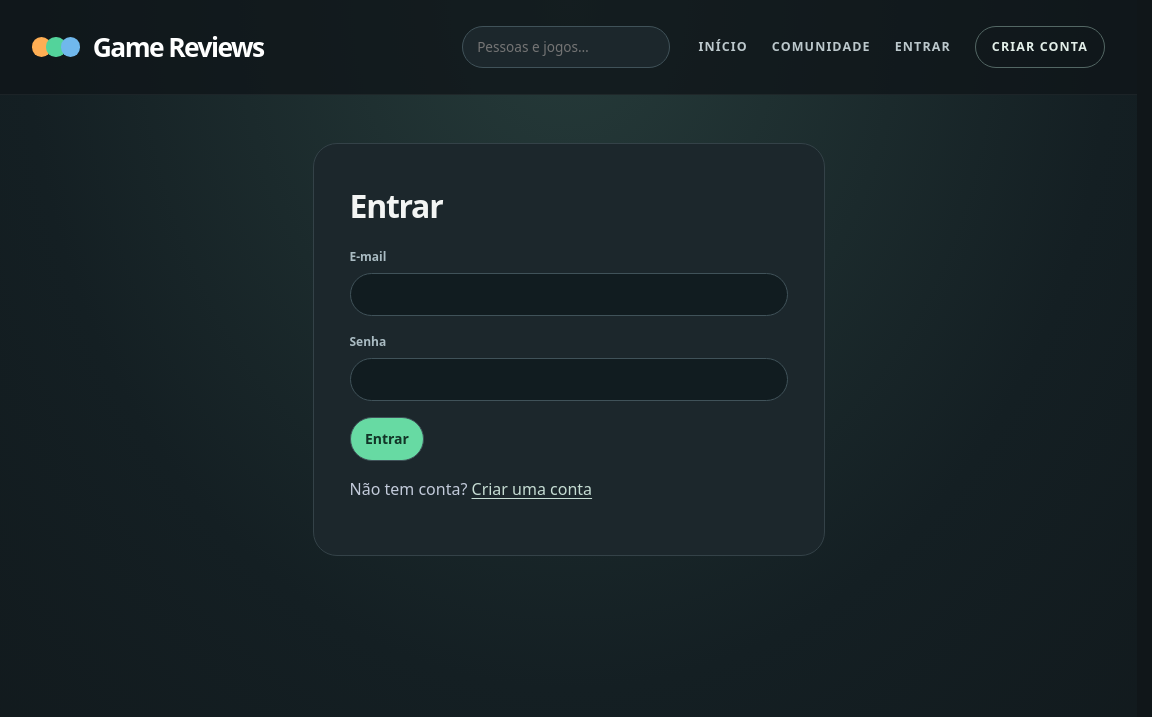
Test: vazio válido não vira erro
Type "test@example.com" into the field labelled "E-mail" at (568, 294), box [350,273,788,316]
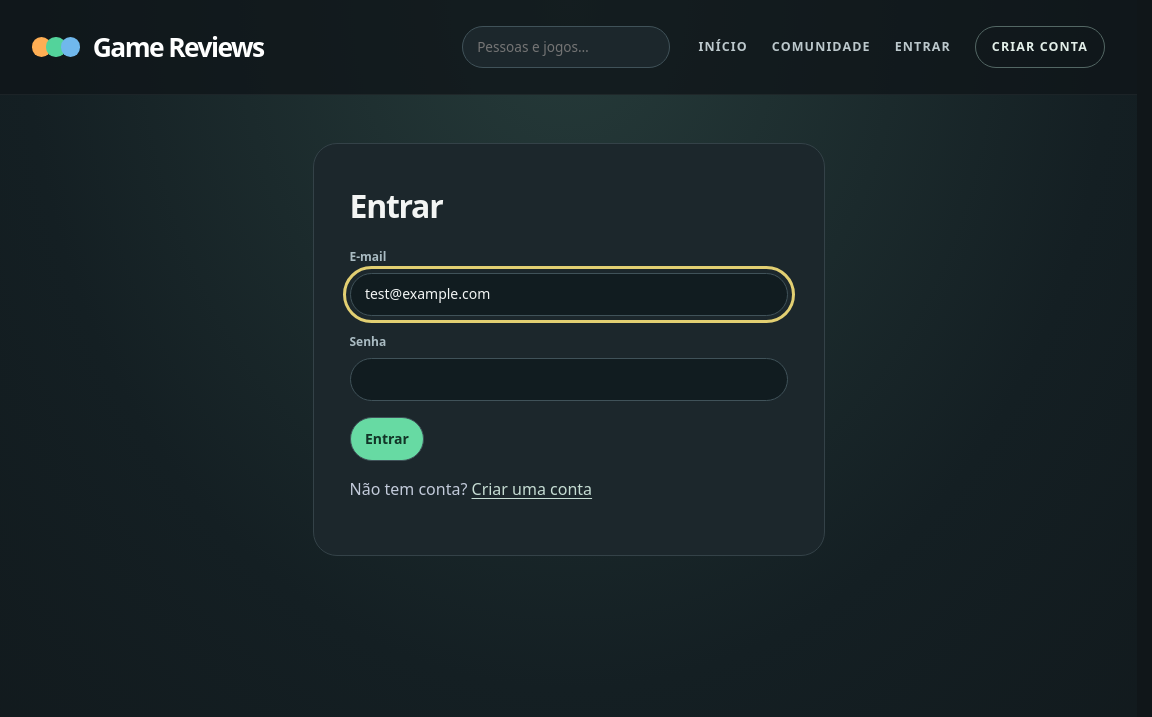
Type "test-only" into the password field labelled "Senha" at (568, 380), box [350,358,788,402]
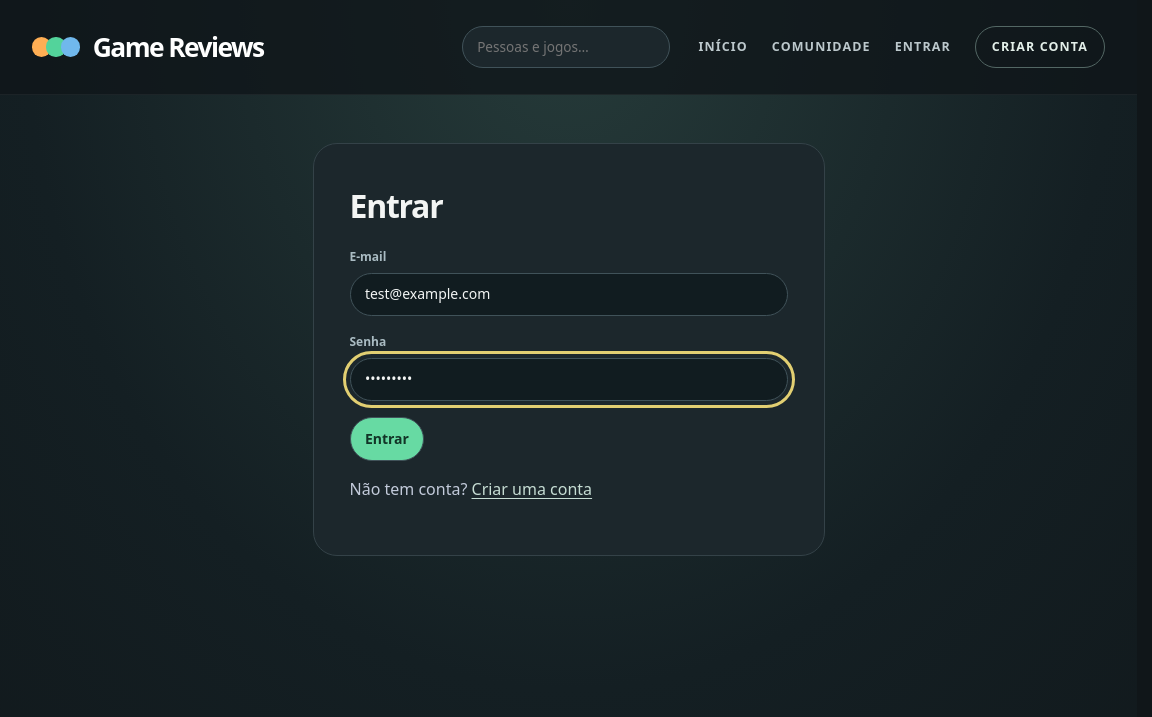
Click the button "Entrar" at (387, 439), box [350,417,424,461]
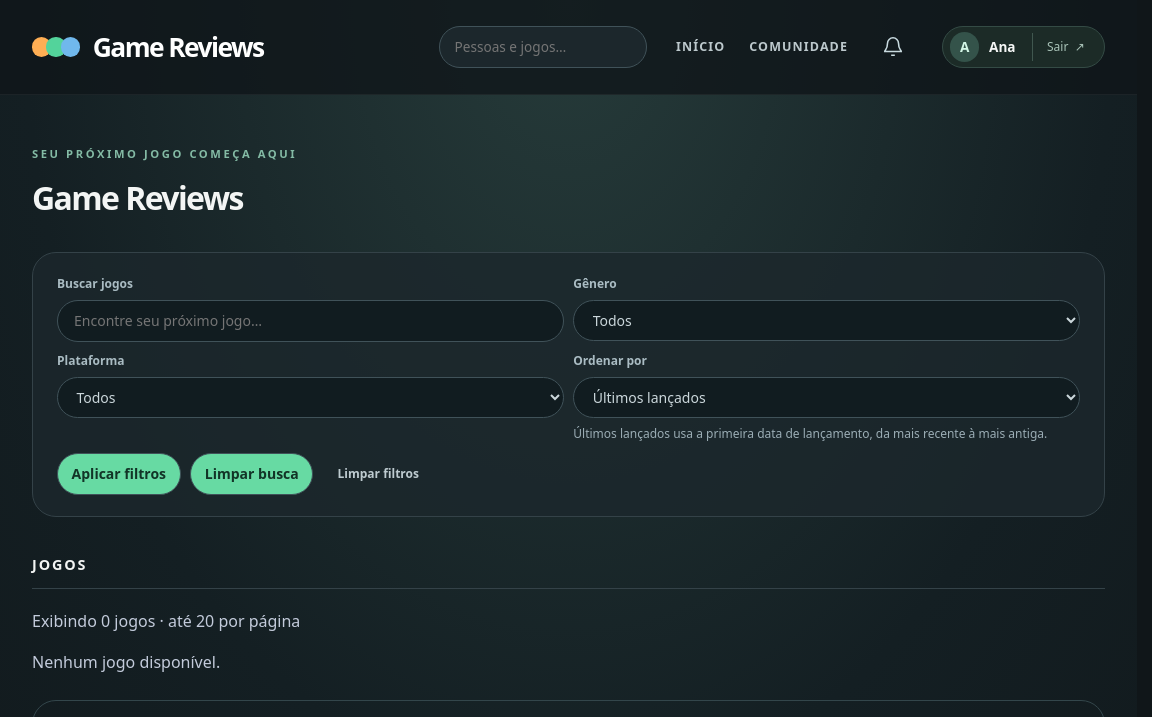
Expected: the text named "Usuário conectado" is shown, [989,36,1016,58]
Click the link "Comunidade" at (799, 47), box [749,37,848,57]
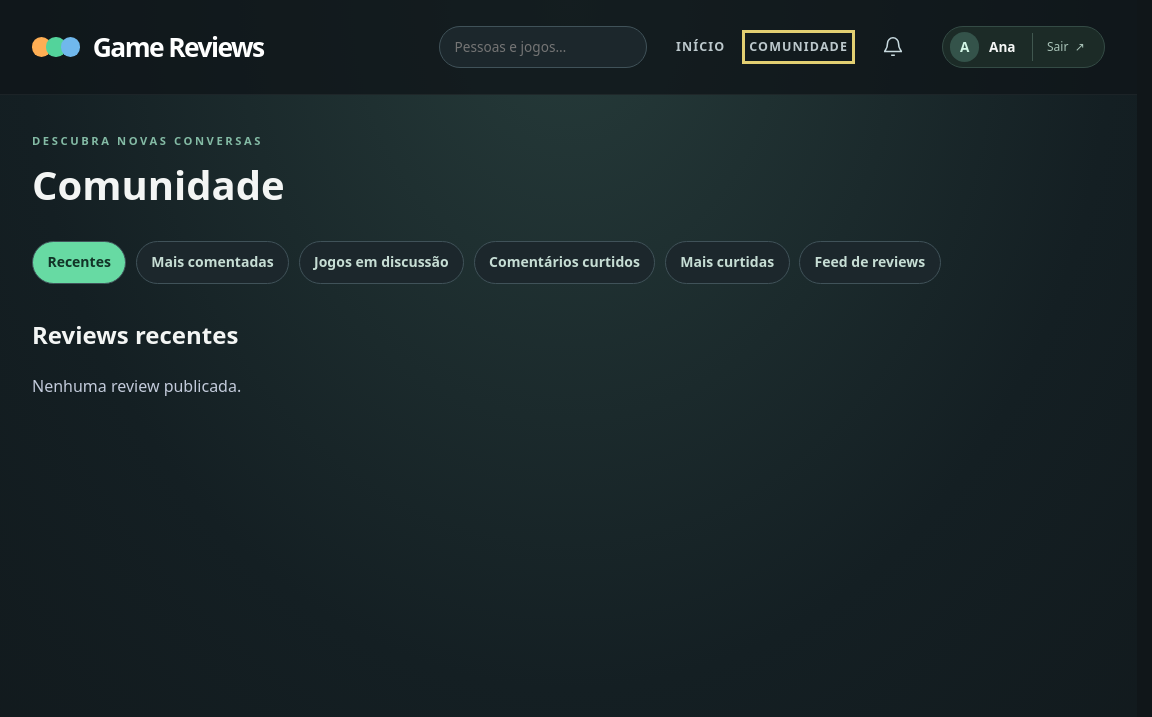
Click the button "Feed de reviews" at (870, 262), box [799,241,941,284]
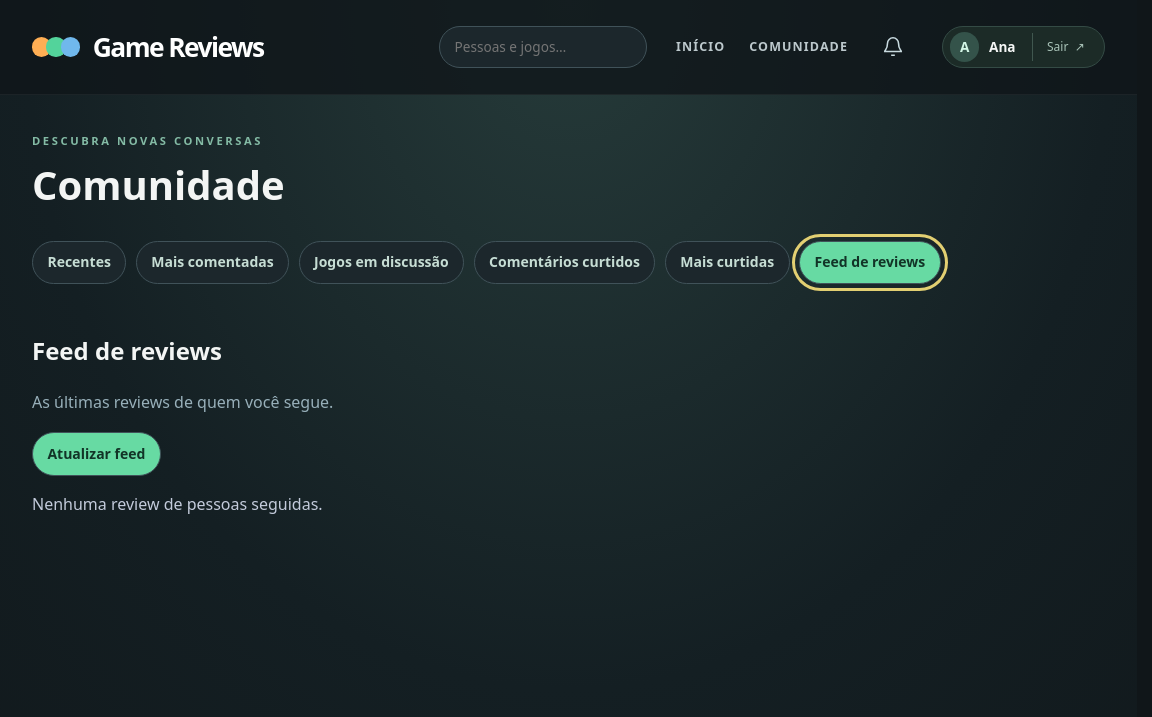
Expected: the text "Nenhuma review de pessoas seguidas." is shown, [32,493,323,515]
